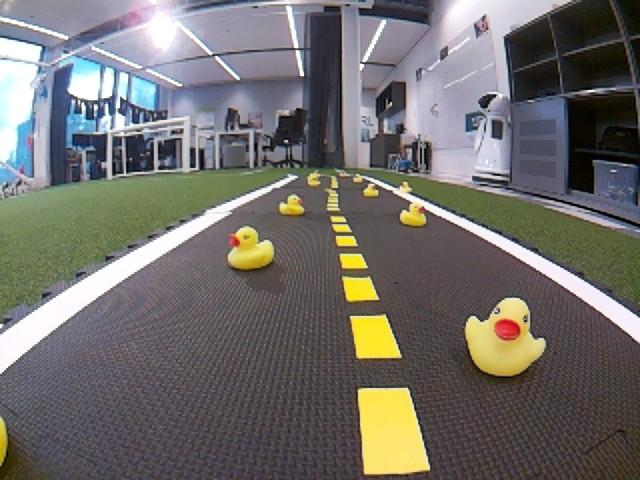Duckies: (466, 297, 544, 377), (228, 226, 273, 269), (399, 204, 426, 226), (278, 195, 303, 215), (364, 186, 378, 197), (308, 177, 320, 186), (400, 183, 412, 191), (353, 176, 362, 182), (331, 180, 338, 187), (310, 173, 317, 177)
